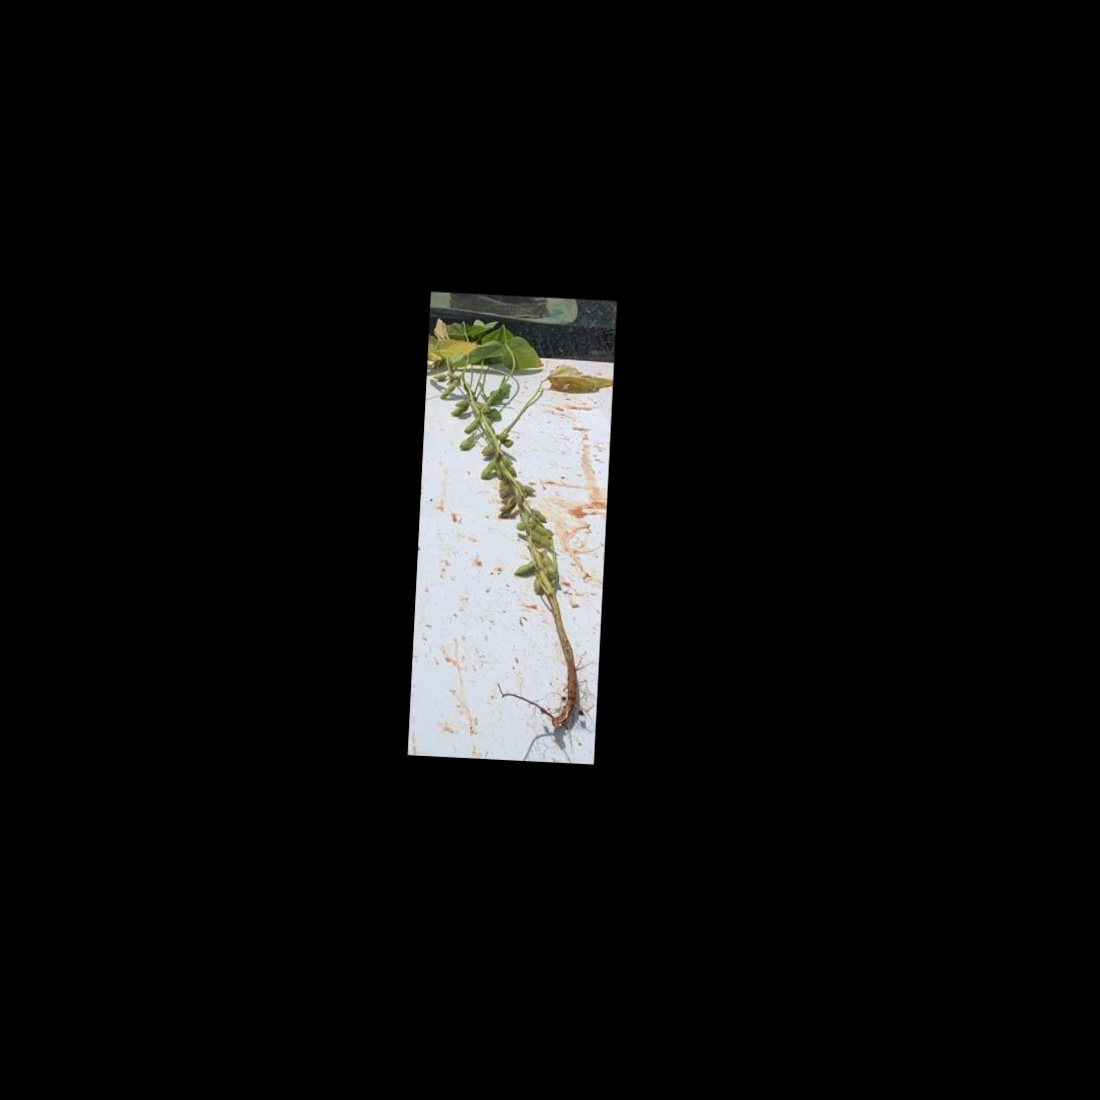pod: (511, 552, 542, 580), (456, 427, 480, 455), (463, 406, 485, 437), (539, 552, 559, 581), (438, 377, 460, 403), (478, 454, 498, 485)
soy: (412, 310, 609, 723)
